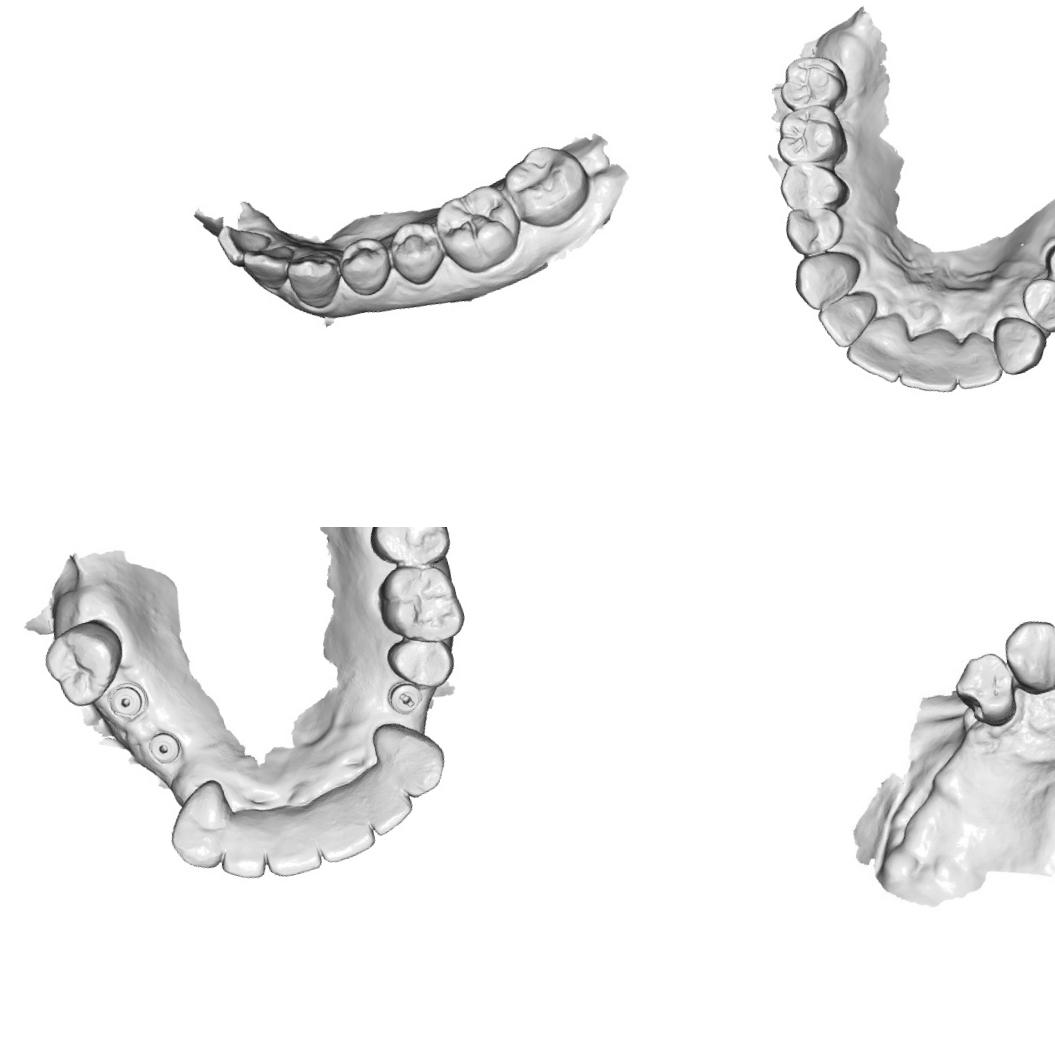canine: (156, 773, 243, 877), (370, 710, 454, 807), (787, 244, 868, 315), (986, 307, 1054, 380), (283, 244, 349, 316), (999, 617, 1055, 698)
implant: (104, 678, 150, 724), (142, 726, 185, 769)
implant_minus: (383, 680, 428, 722)
incisor: (838, 312, 918, 393), (890, 326, 962, 403), (814, 287, 886, 353), (239, 240, 305, 298), (947, 326, 1005, 392), (212, 824, 272, 887), (213, 214, 278, 268), (311, 816, 381, 866), (358, 790, 422, 842), (260, 832, 325, 882)
molar: (427, 178, 530, 280), (367, 555, 471, 656), (36, 613, 134, 715), (498, 136, 598, 234), (768, 99, 854, 179), (773, 47, 853, 122), (358, 527, 457, 577)
premolar: (950, 648, 1025, 733), (381, 629, 460, 698), (773, 152, 853, 220), (383, 216, 450, 291), (333, 232, 398, 300), (780, 199, 849, 260), (1018, 270, 1055, 338), (1040, 232, 1055, 303)
